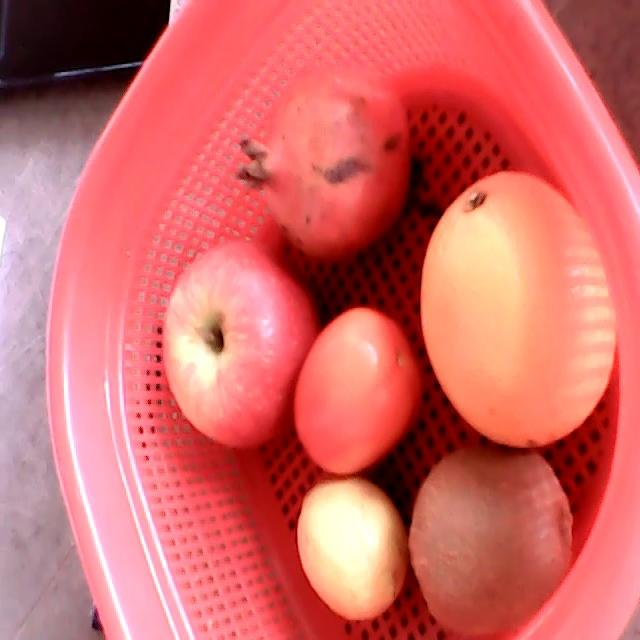apple: (160, 243, 320, 451)
kiwi: (410, 444, 573, 637)
lemon: (296, 478, 409, 623)
orange: (420, 170, 616, 448)
pomegranate: (236, 63, 410, 264)
tomato: (293, 306, 421, 475)
